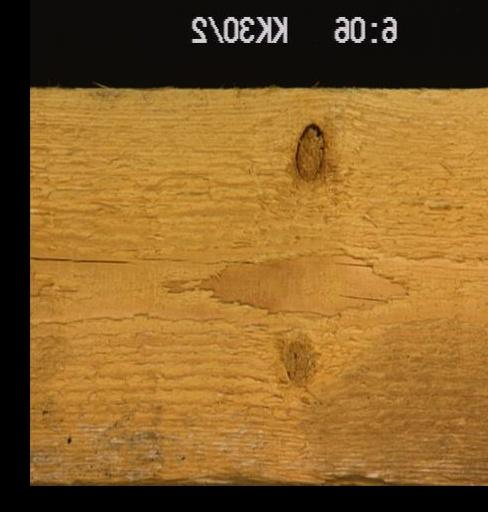dry_knot: (292, 121, 327, 183)
sound_knot: (275, 334, 316, 388)
split: (29, 253, 127, 264), (338, 291, 386, 300), (330, 257, 373, 267)
wave: (199, 467, 394, 483)
